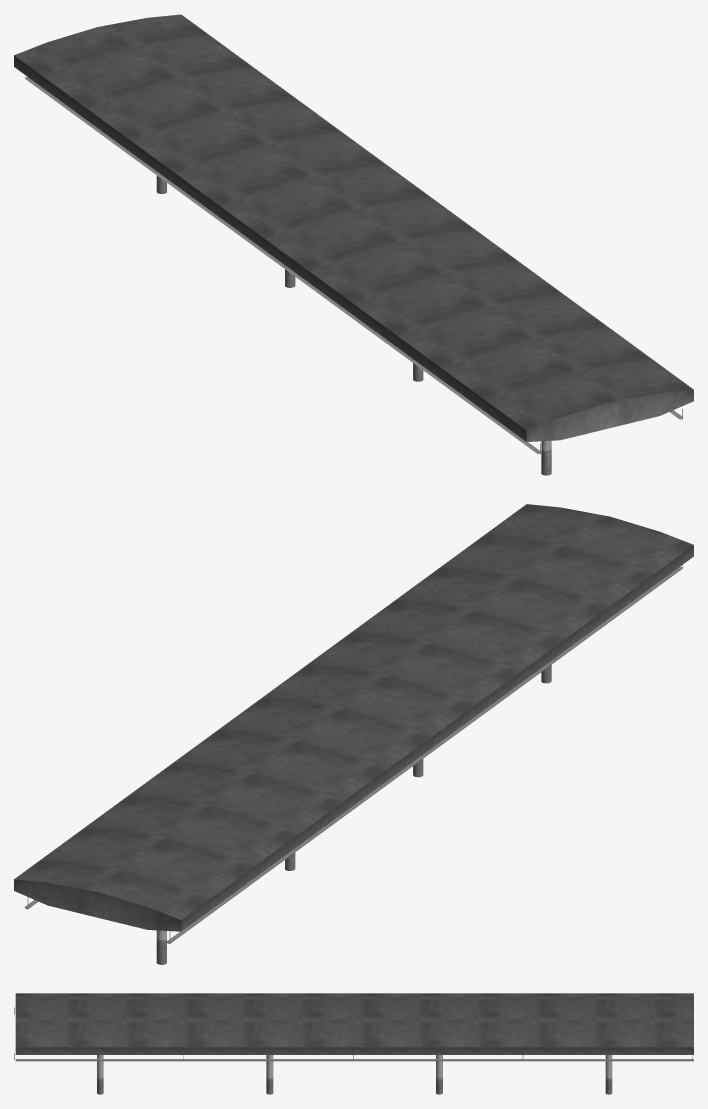
Rendered from AMB_RINKU_YANE.glb.
3 views of the same model, one above another, from view 1: azimuth 30°, elevation 25°; view 2: azimuth 150°, elevation 25°; view 3: azimuth 270°, elevation 25° (orthographic). The views are drawn at different scales.
Visible parts, largest first — view 1: BASE; view 2: BASE; view 3: BASE.
Boxes of the visible parts, x1,y1,x2,y2 form: BASE: [14, 14, 693, 475]; BASE: [14, 504, 693, 964]; BASE: [14, 993, 693, 1094].
Size of the model in its own units: 18.84 by 12.68 by 100.
Materials: 5 (4 with a texture image).
